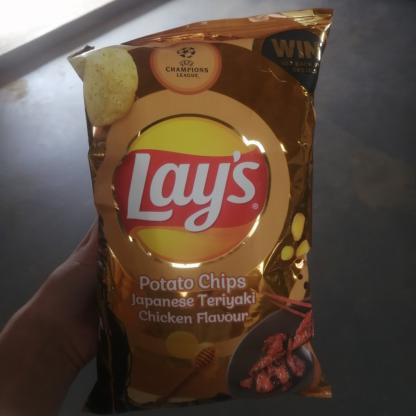potatochip: (60, 3, 350, 416)
